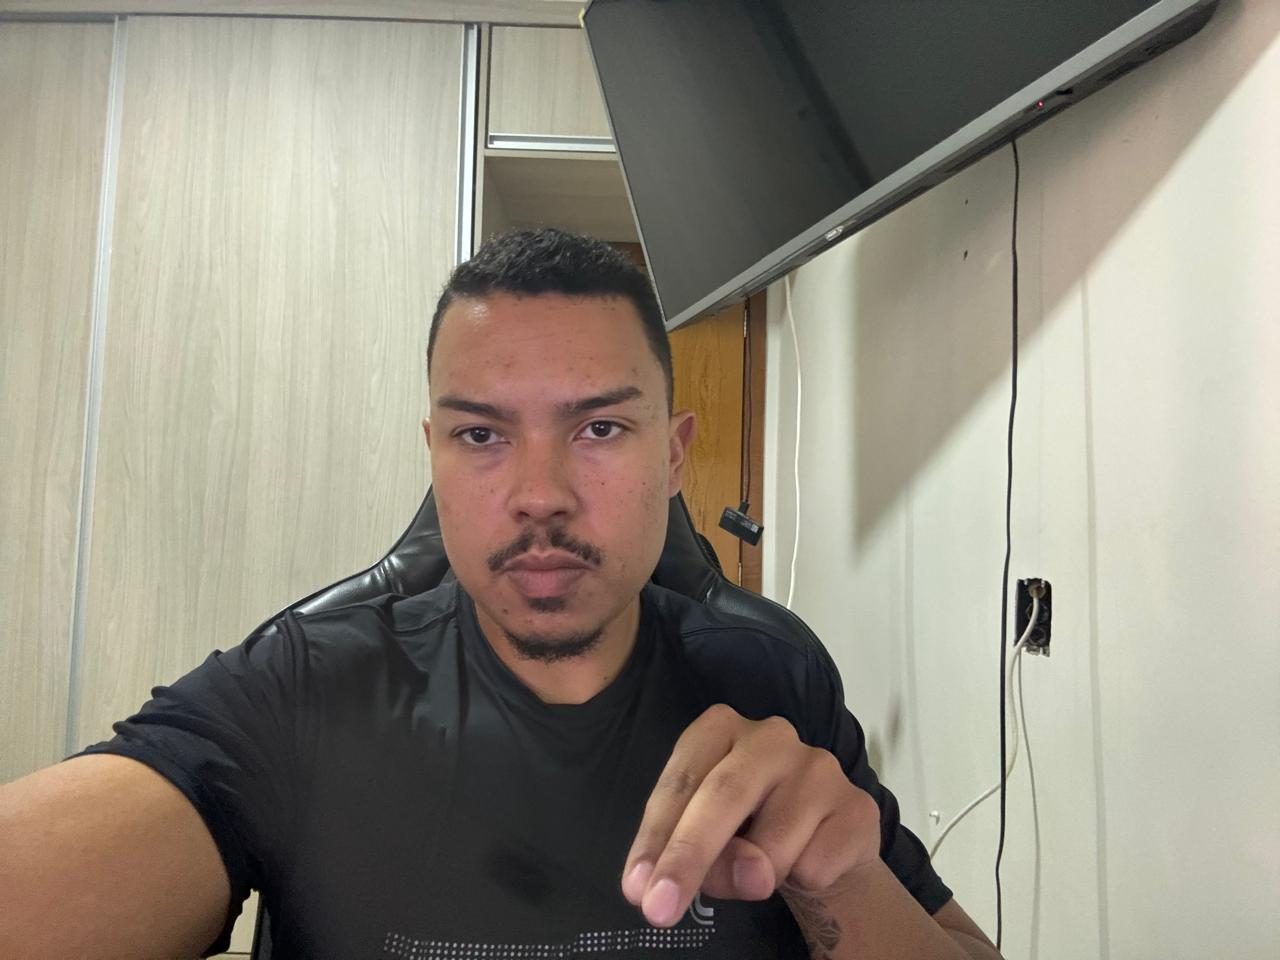n: (615, 684, 889, 940)
